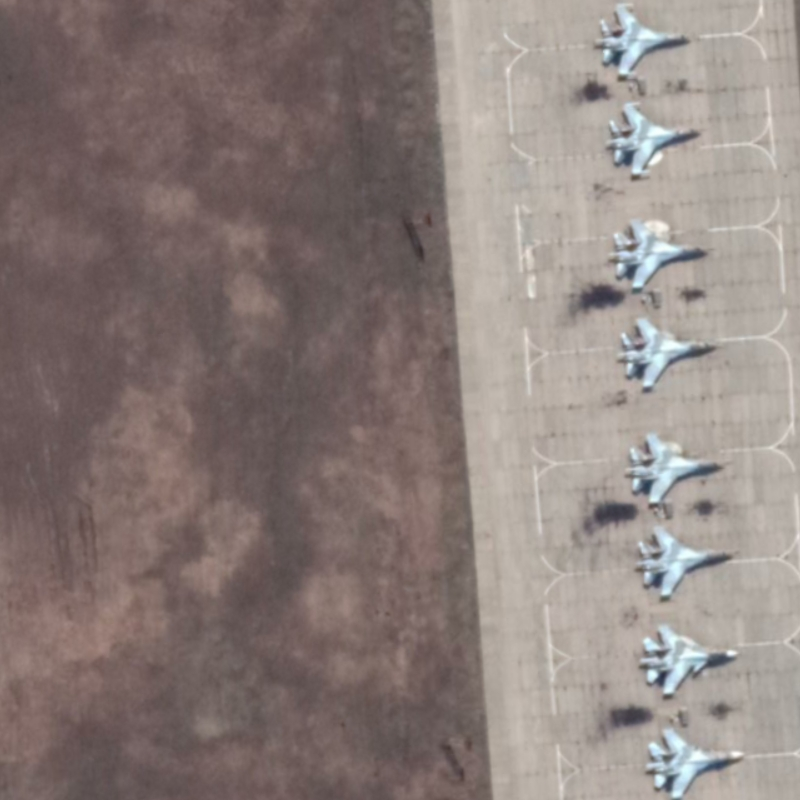A1: (623, 431, 729, 506), (602, 100, 703, 178), (606, 216, 712, 290), (614, 316, 720, 390), (634, 524, 737, 600), (593, 1, 693, 78), (644, 726, 748, 800)
A19: (638, 623, 741, 698)
